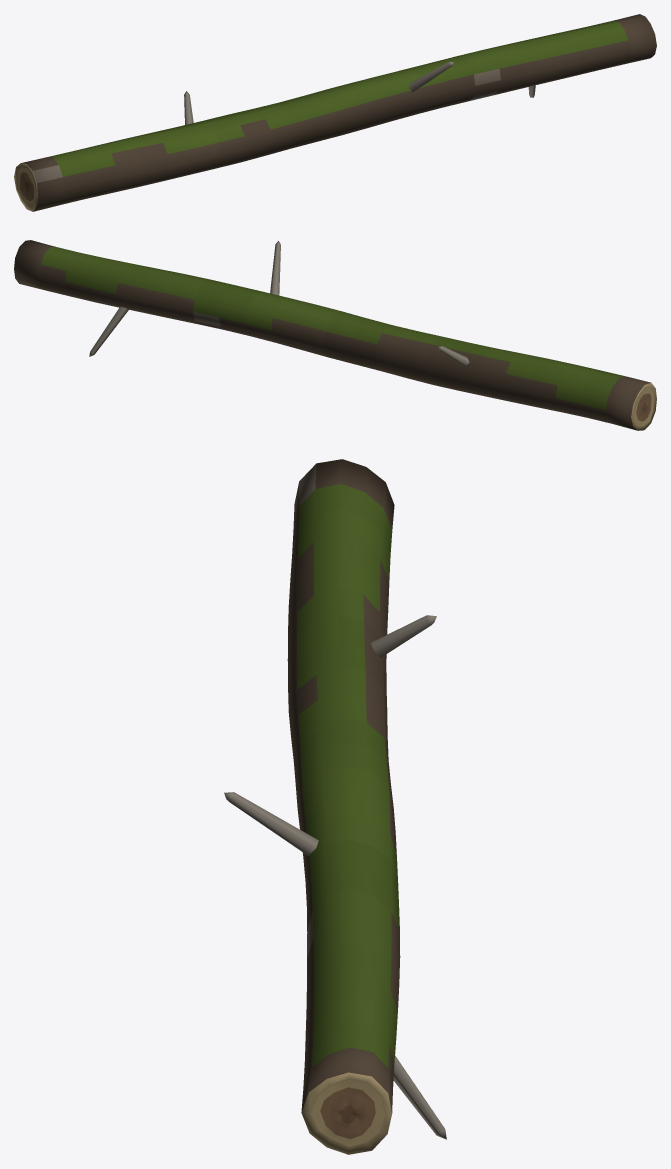
Rendered from log.glb.
The picture shows the model from 3 angles, top to bottom: view 1: azimuth 30°, elevation 25°; view 2: azimuth 150°, elevation 25°; view 3: azimuth 270°, elevation 25°; orthographic projection. The views are drawn at different scales.
Parts seen in each view (by area): view 1: LOD0; view 2: LOD0; view 3: LOD0.
Part boxes in pixels (x1,y1,x2,y2): LOD0: (14,14,656,211); LOD0: (14,240,656,430); LOD0: (224,459,446,1154).
Size of what is drawn, in the model's own units: 6.02 by 1.01 by 0.9376.
